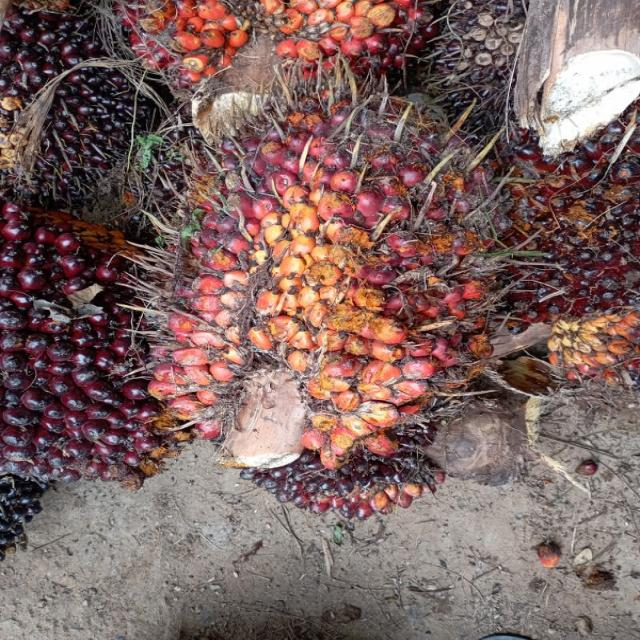fraksi 3: (50, 32, 587, 565)
